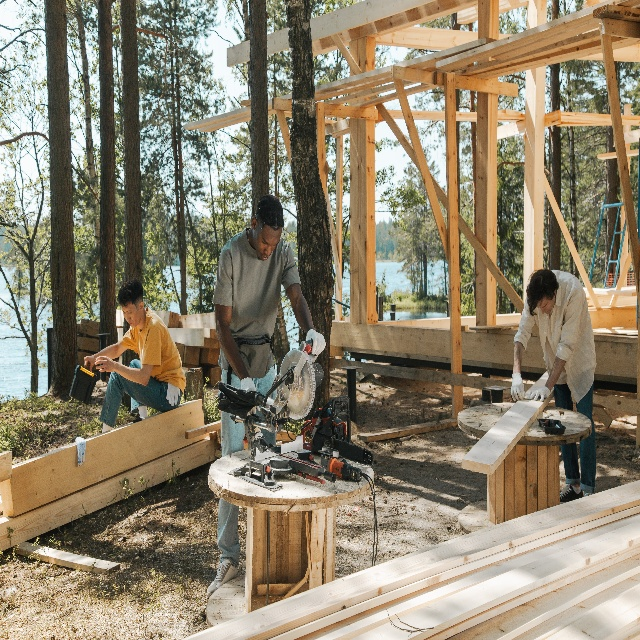Guantes: (241, 376, 260, 416), (305, 329, 326, 355), (511, 372, 526, 402), (525, 386, 551, 401), (75, 436, 86, 468), (166, 382, 180, 406)
Sin_guantes: (94, 355, 115, 372), (83, 354, 98, 373)
